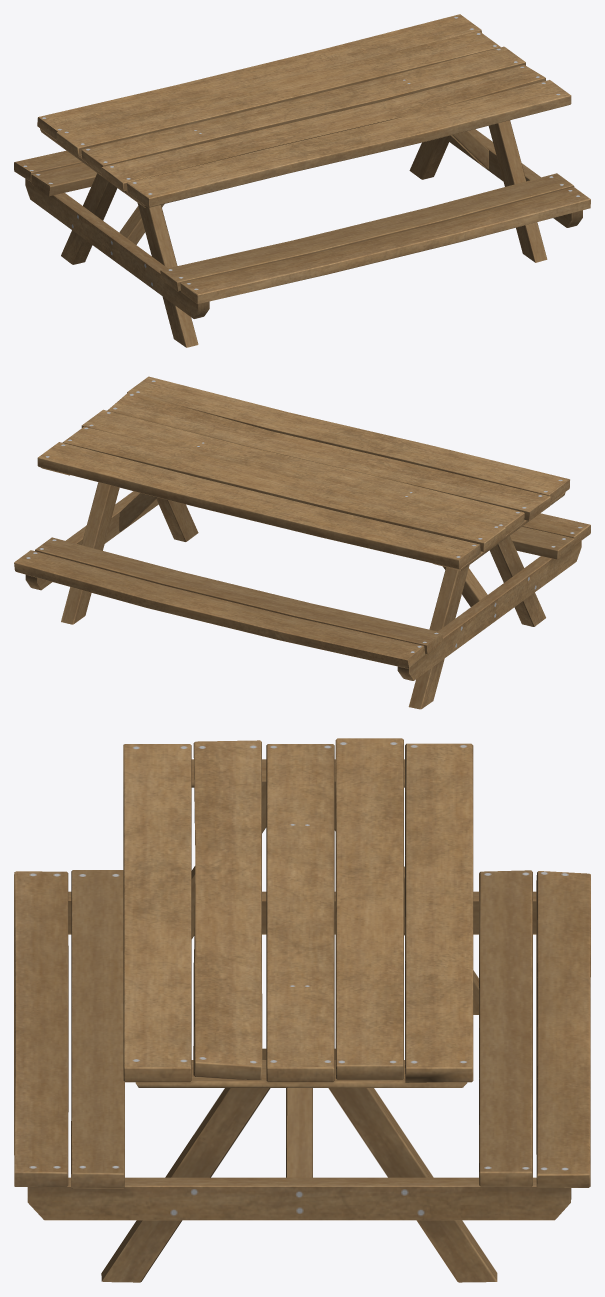
File: picnic_table_low-poly.glb
3 renders of one model, top to bottom at view 1: azimuth 30°, elevation 25°; view 2: azimuth 150°, elevation 25°; view 3: azimuth 270°, elevation 25°, orthographic. The views are drawn at different scales.
Visible parts, largest first — view 1: picnic_table; view 2: picnic_table; view 3: picnic_table.
Boxes of the visible parts, x1,y1,x2,y2 form: picnic_table: [14, 14, 590, 347]; picnic_table: [14, 376, 590, 709]; picnic_table: [14, 738, 590, 1282].
Size of the model in its own units: 1.52 by 0.5233 by 1.13.
1 material, 1 textured.
